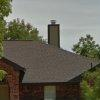Chimney: (43, 15, 65, 54)
